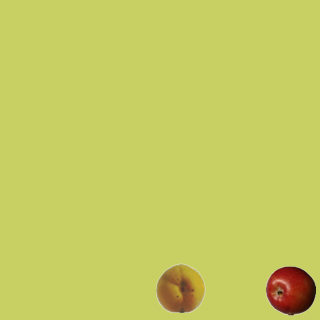Apple Braeburn: (265, 265, 315, 315)
Peach 2: (155, 262, 205, 312)
